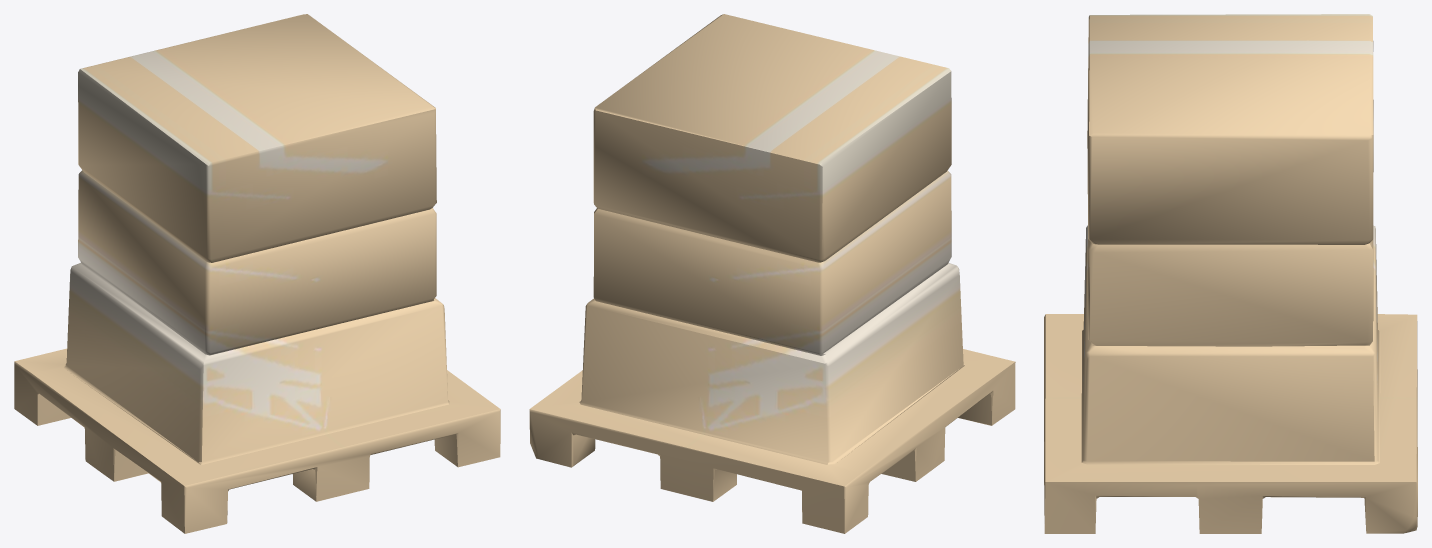
The picture shows the model from 3 angles, left to right: view 1: azimuth 30°, elevation 25°; view 2: azimuth 150°, elevation 25°; view 3: azimuth 270°, elevation 25°; orthographic projection. The views are drawn at different scales.
Parts seen in each view (by area): view 1: Decor_box_stack_c; view 2: Decor_box_stack_c; view 3: Decor_box_stack_c.
Boxes of the visible parts, x1,y1,x2,y2 form: Decor_box_stack_c: (14,14,500,533); Decor_box_stack_c: (529,14,1015,533); Decor_box_stack_c: (1044,14,1417,533).
Bounding box in the file's own units: 1.24 × 1.3 × 1.17.
Materials: 1 (1 with a texture image).
